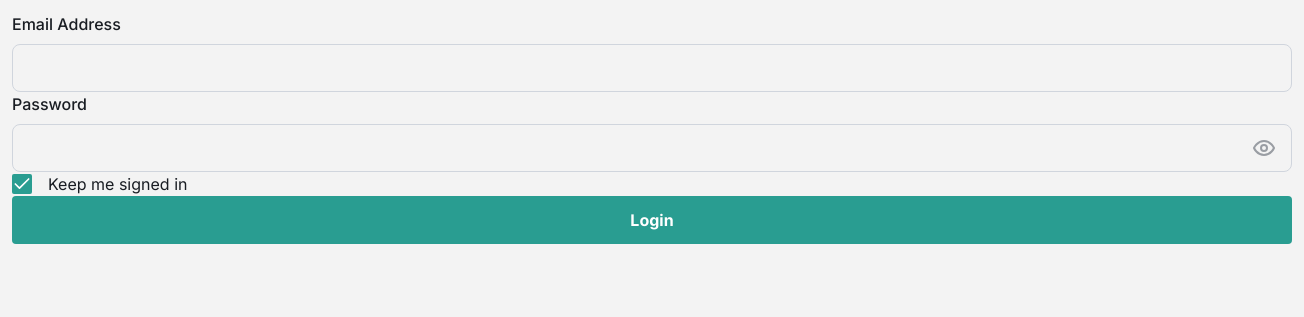
react-hook-form with the form controls › shows field errors and does not submit when the fields are invalid
The width and height of the screenshot is (1304, 317).
Step 1. Click the button "Login" → (652, 220), box [12,196,1292,244]
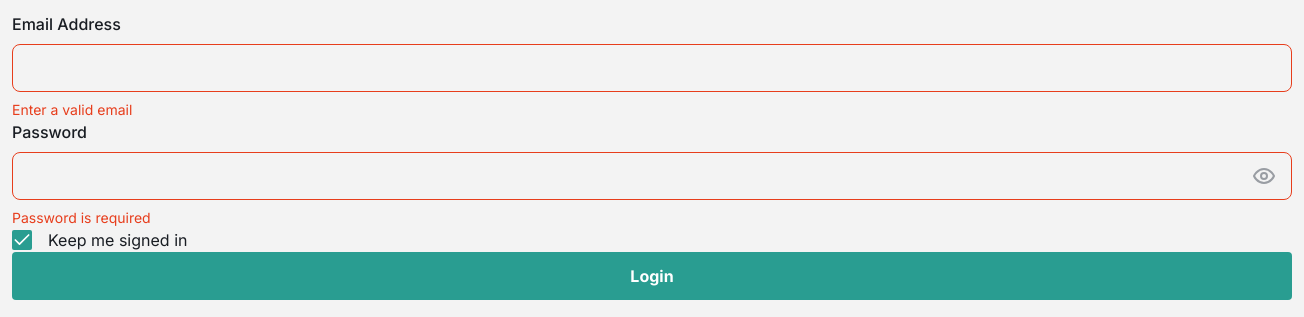
Check: the text "Enter a valid email" is shown, box [12,101,132,118]
